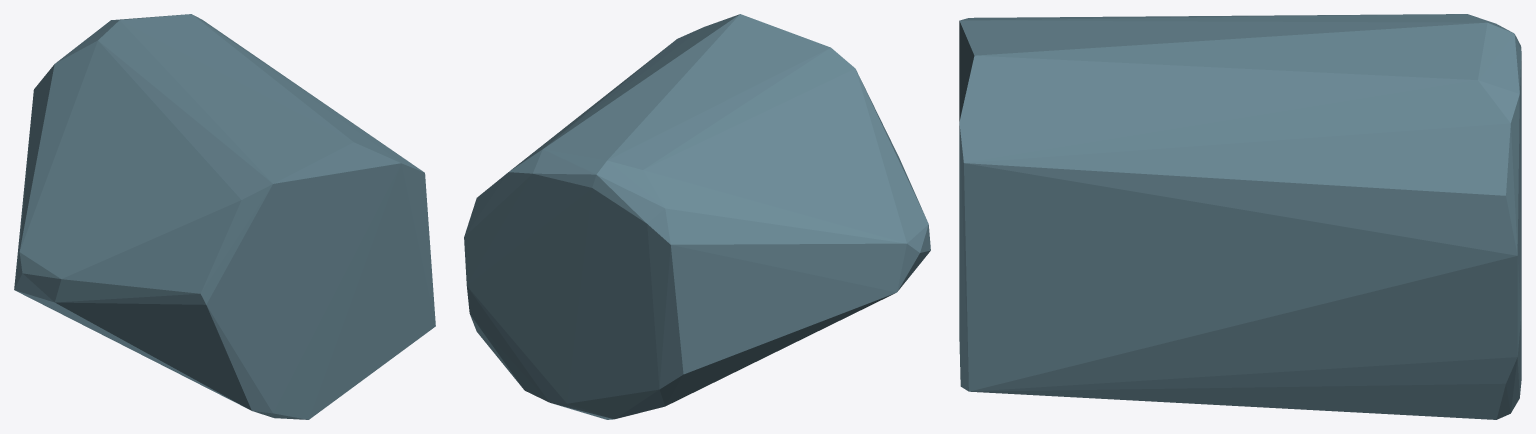
The model's file is dishware_mug_coffee_b01.glb.
3 renders of one model, left to right at view 1: azimuth 30°, elevation 25°; view 2: azimuth 150°, elevation 25°; view 3: azimuth 270°, elevation 25°, orthographic. The views are drawn at different scales.
Visible parts, largest first — view 1: geometry_0; view 2: geometry_0; view 3: geometry_0.
Boxes of the visible parts, bbox=[...] form: geometry_0: bbox=[14, 14, 435, 419]; geometry_0: bbox=[464, 14, 930, 419]; geometry_0: bbox=[959, 14, 1521, 419].
Bounding box in the file's own units: 0.4585 × 0.3405 × 0.4715.
